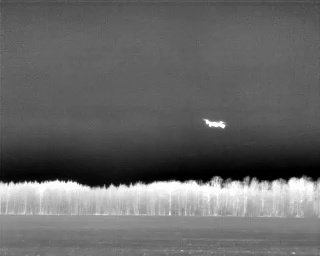DRONE: (199, 113, 230, 135)
